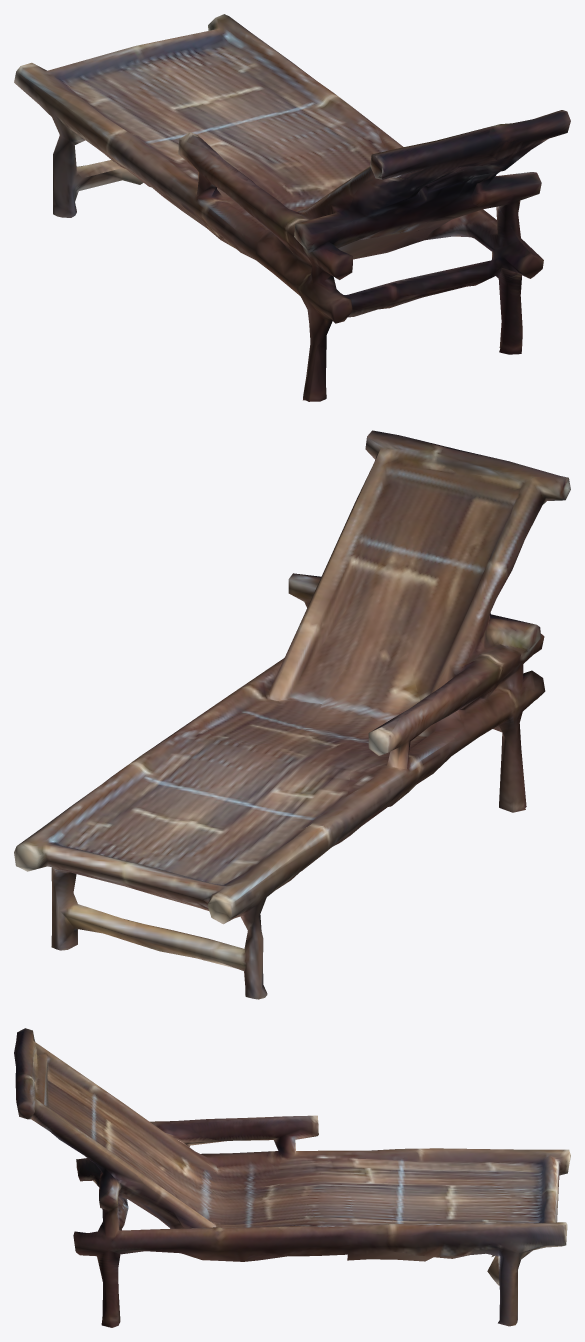
The model's file is 20240221022946-Meja Set Panjang.glb.
3 renders of one model, top to bottom at view 1: azimuth 30°, elevation 25°; view 2: azimuth 150°, elevation 25°; view 3: azimuth 270°, elevation 25°, orthographic. The views are drawn at different scales.
Visible parts, largest first — view 1: defaultobject.001; view 2: defaultobject.001; view 3: defaultobject.001.
Boxes of the visible parts, left/top/right/bottom form: defaultobject.001: left=14, top=14, right=570, bottom=401; defaultobject.001: left=14, top=430, right=570, bottom=999; defaultobject.001: left=14, top=1028, right=570, bottom=1327.
Size of the model in its own units: 1.98 by 2.24 by 5.08.
Materials: 1 (1 with a texture image).
